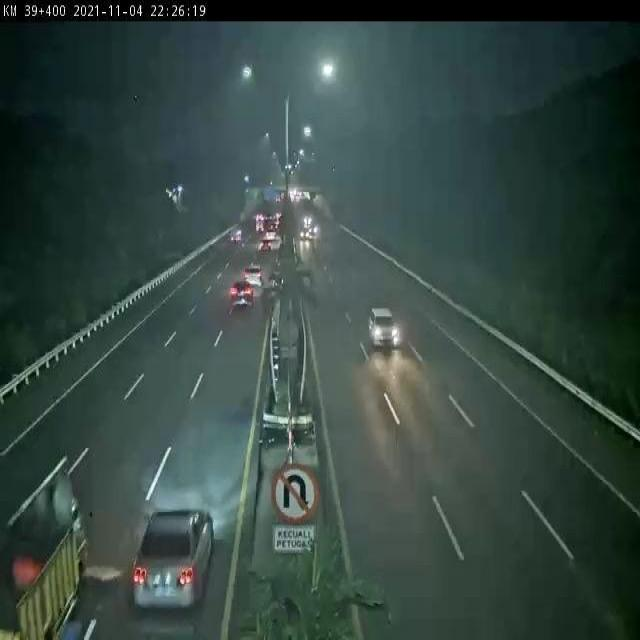car: (133, 508, 216, 609), (367, 307, 401, 349), (229, 281, 256, 308), (244, 265, 263, 287)
truck-m-: (0, 480, 91, 640)
